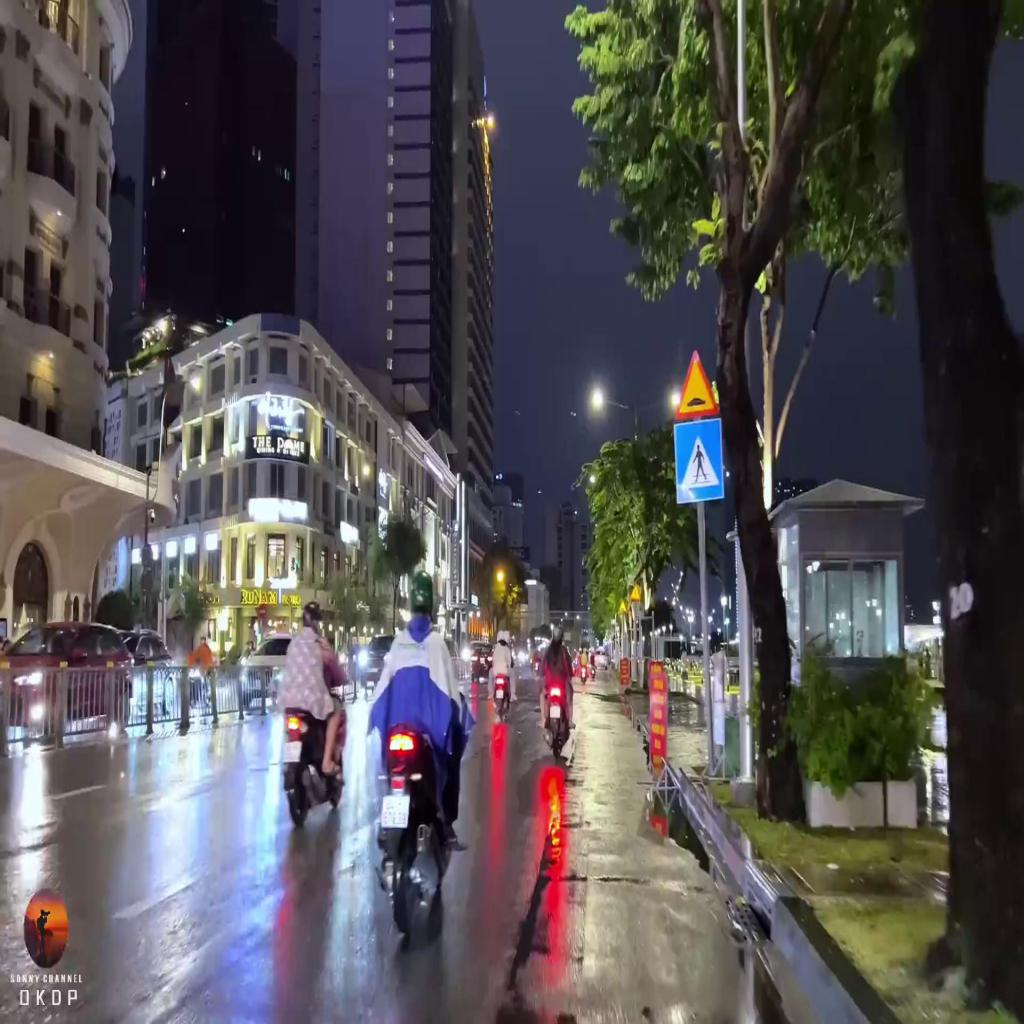duong_co_song_map_mo_nhan_tao: (674, 348, 722, 420)
duong_nguoi_di_bo_sang_ngang: (674, 419, 724, 506)
